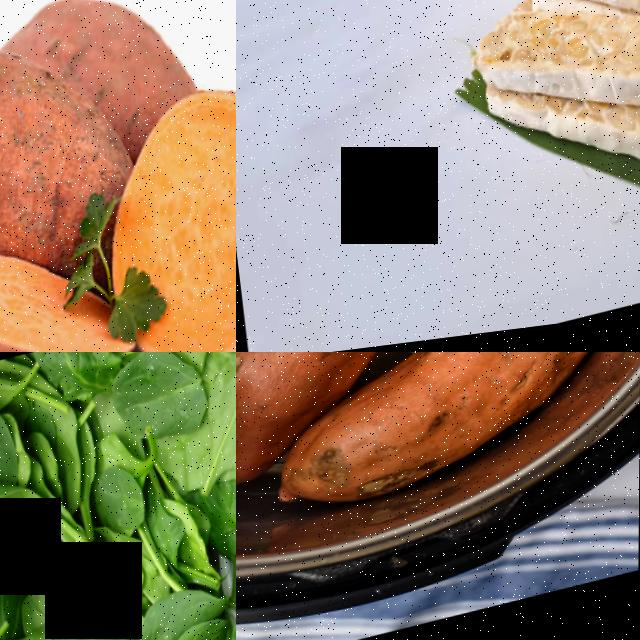spinach: (110, 352, 208, 450), (142, 591, 227, 640), (93, 468, 143, 540), (208, 361, 236, 484), (52, 604, 141, 640), (0, 400, 14, 481)
strawberry: (94, 465, 147, 541)
sweet potato: (260, 352, 619, 526), (137, 72, 236, 352), (0, 27, 97, 281)
tempeh: (477, 0, 640, 141), (502, 0, 640, 39)
